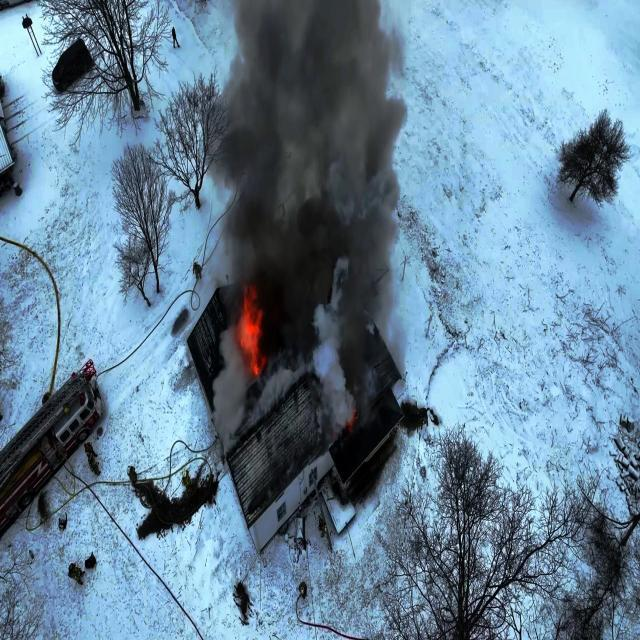Fire: (378, 289, 410, 401), (236, 287, 272, 373), (349, 403, 356, 432)
Smoke: (200, 0, 403, 284), (310, 290, 346, 430), (216, 324, 243, 448)
